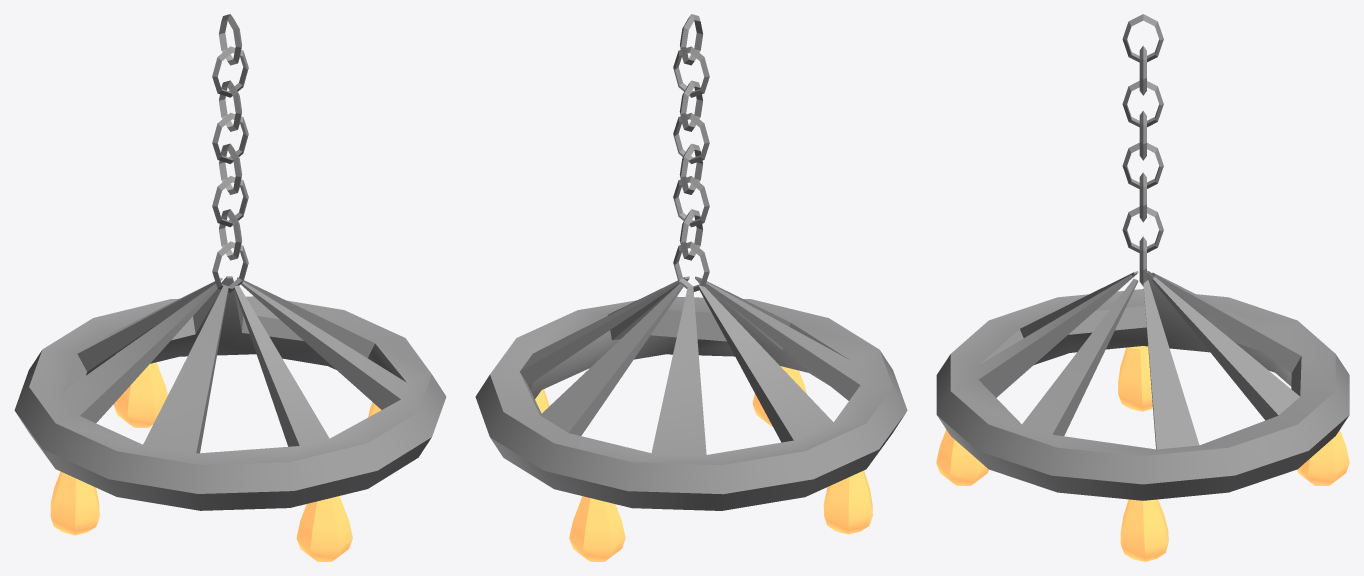
Rendered from Candelabro.fbx.
3 renders of one model, left to right at view 1: azimuth 30°, elevation 25°; view 2: azimuth 150°, elevation 25°; view 3: azimuth 270°, elevation 25°, orthographic. The views are drawn at different scales.
Visible parts, largest first — view 1: Torus.001; view 2: Torus.001; view 3: Torus.001.
Part boxes in pixels (box(x1,y1,x2,y2)): Torus.001: box(14, 14, 446, 561); Torus.001: box(475, 14, 907, 561); Torus.001: box(936, 14, 1349, 561).
Size of the model in its own units: 178 by 217 by 174.
